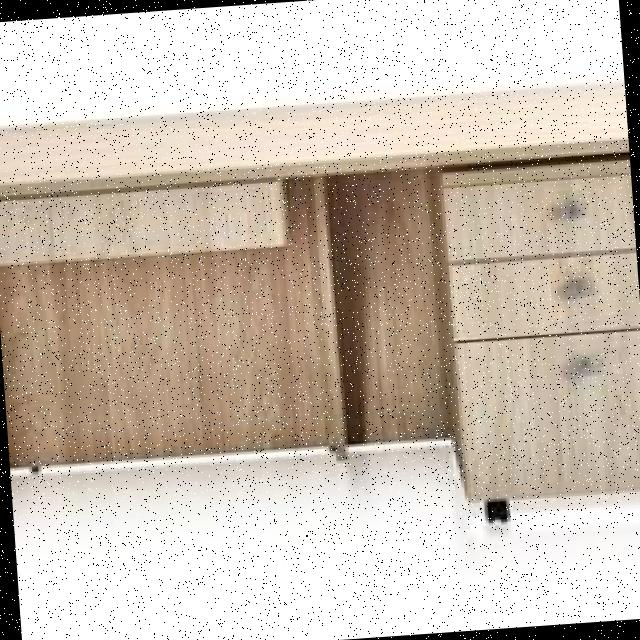Table: (0, 43, 640, 566)
